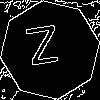Z: (25, 25, 62, 75)
